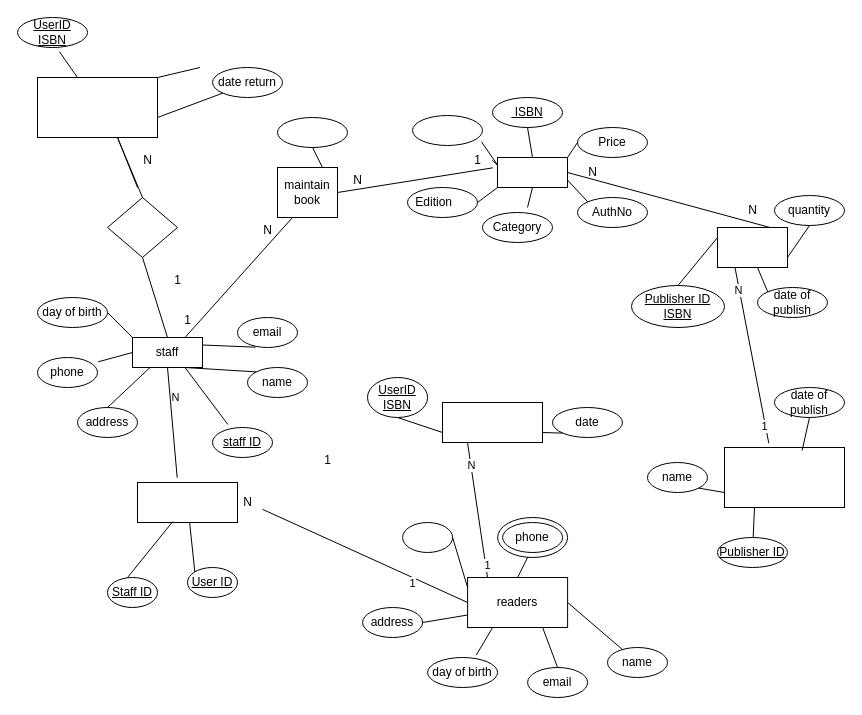
The diagram is 862 pixels wide and 715 high, and some of its shapes have lost their labels. The shapes that lost their labels are listed below. From the top down, each one's centre as x and y in pixels, then its label:
the point at 97,107: reports
the point at 312,132: Staff ID ISBN
the point at 447,130: Title
the point at 532,172: books
the point at 142,227: manages
the point at 752,247: Book_publish
the point at 492,422: return date
the point at 784,477: publishers
the point at 187,502: control
the point at 427,537: UserID
